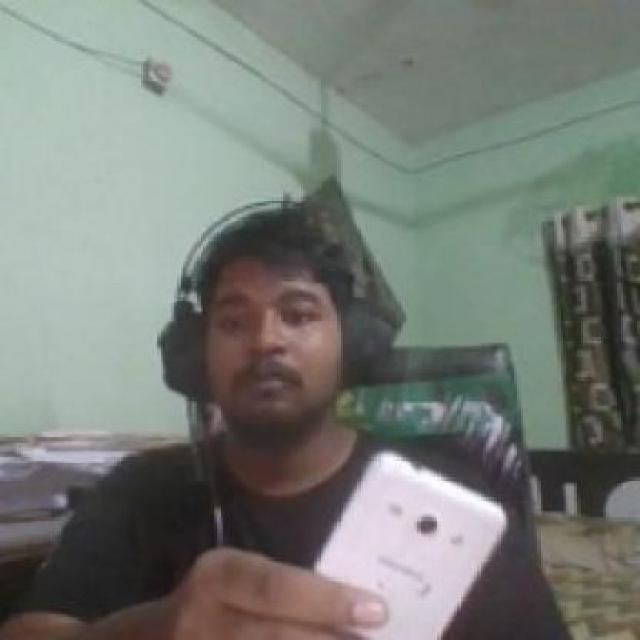Phone: (310, 450, 507, 640)
